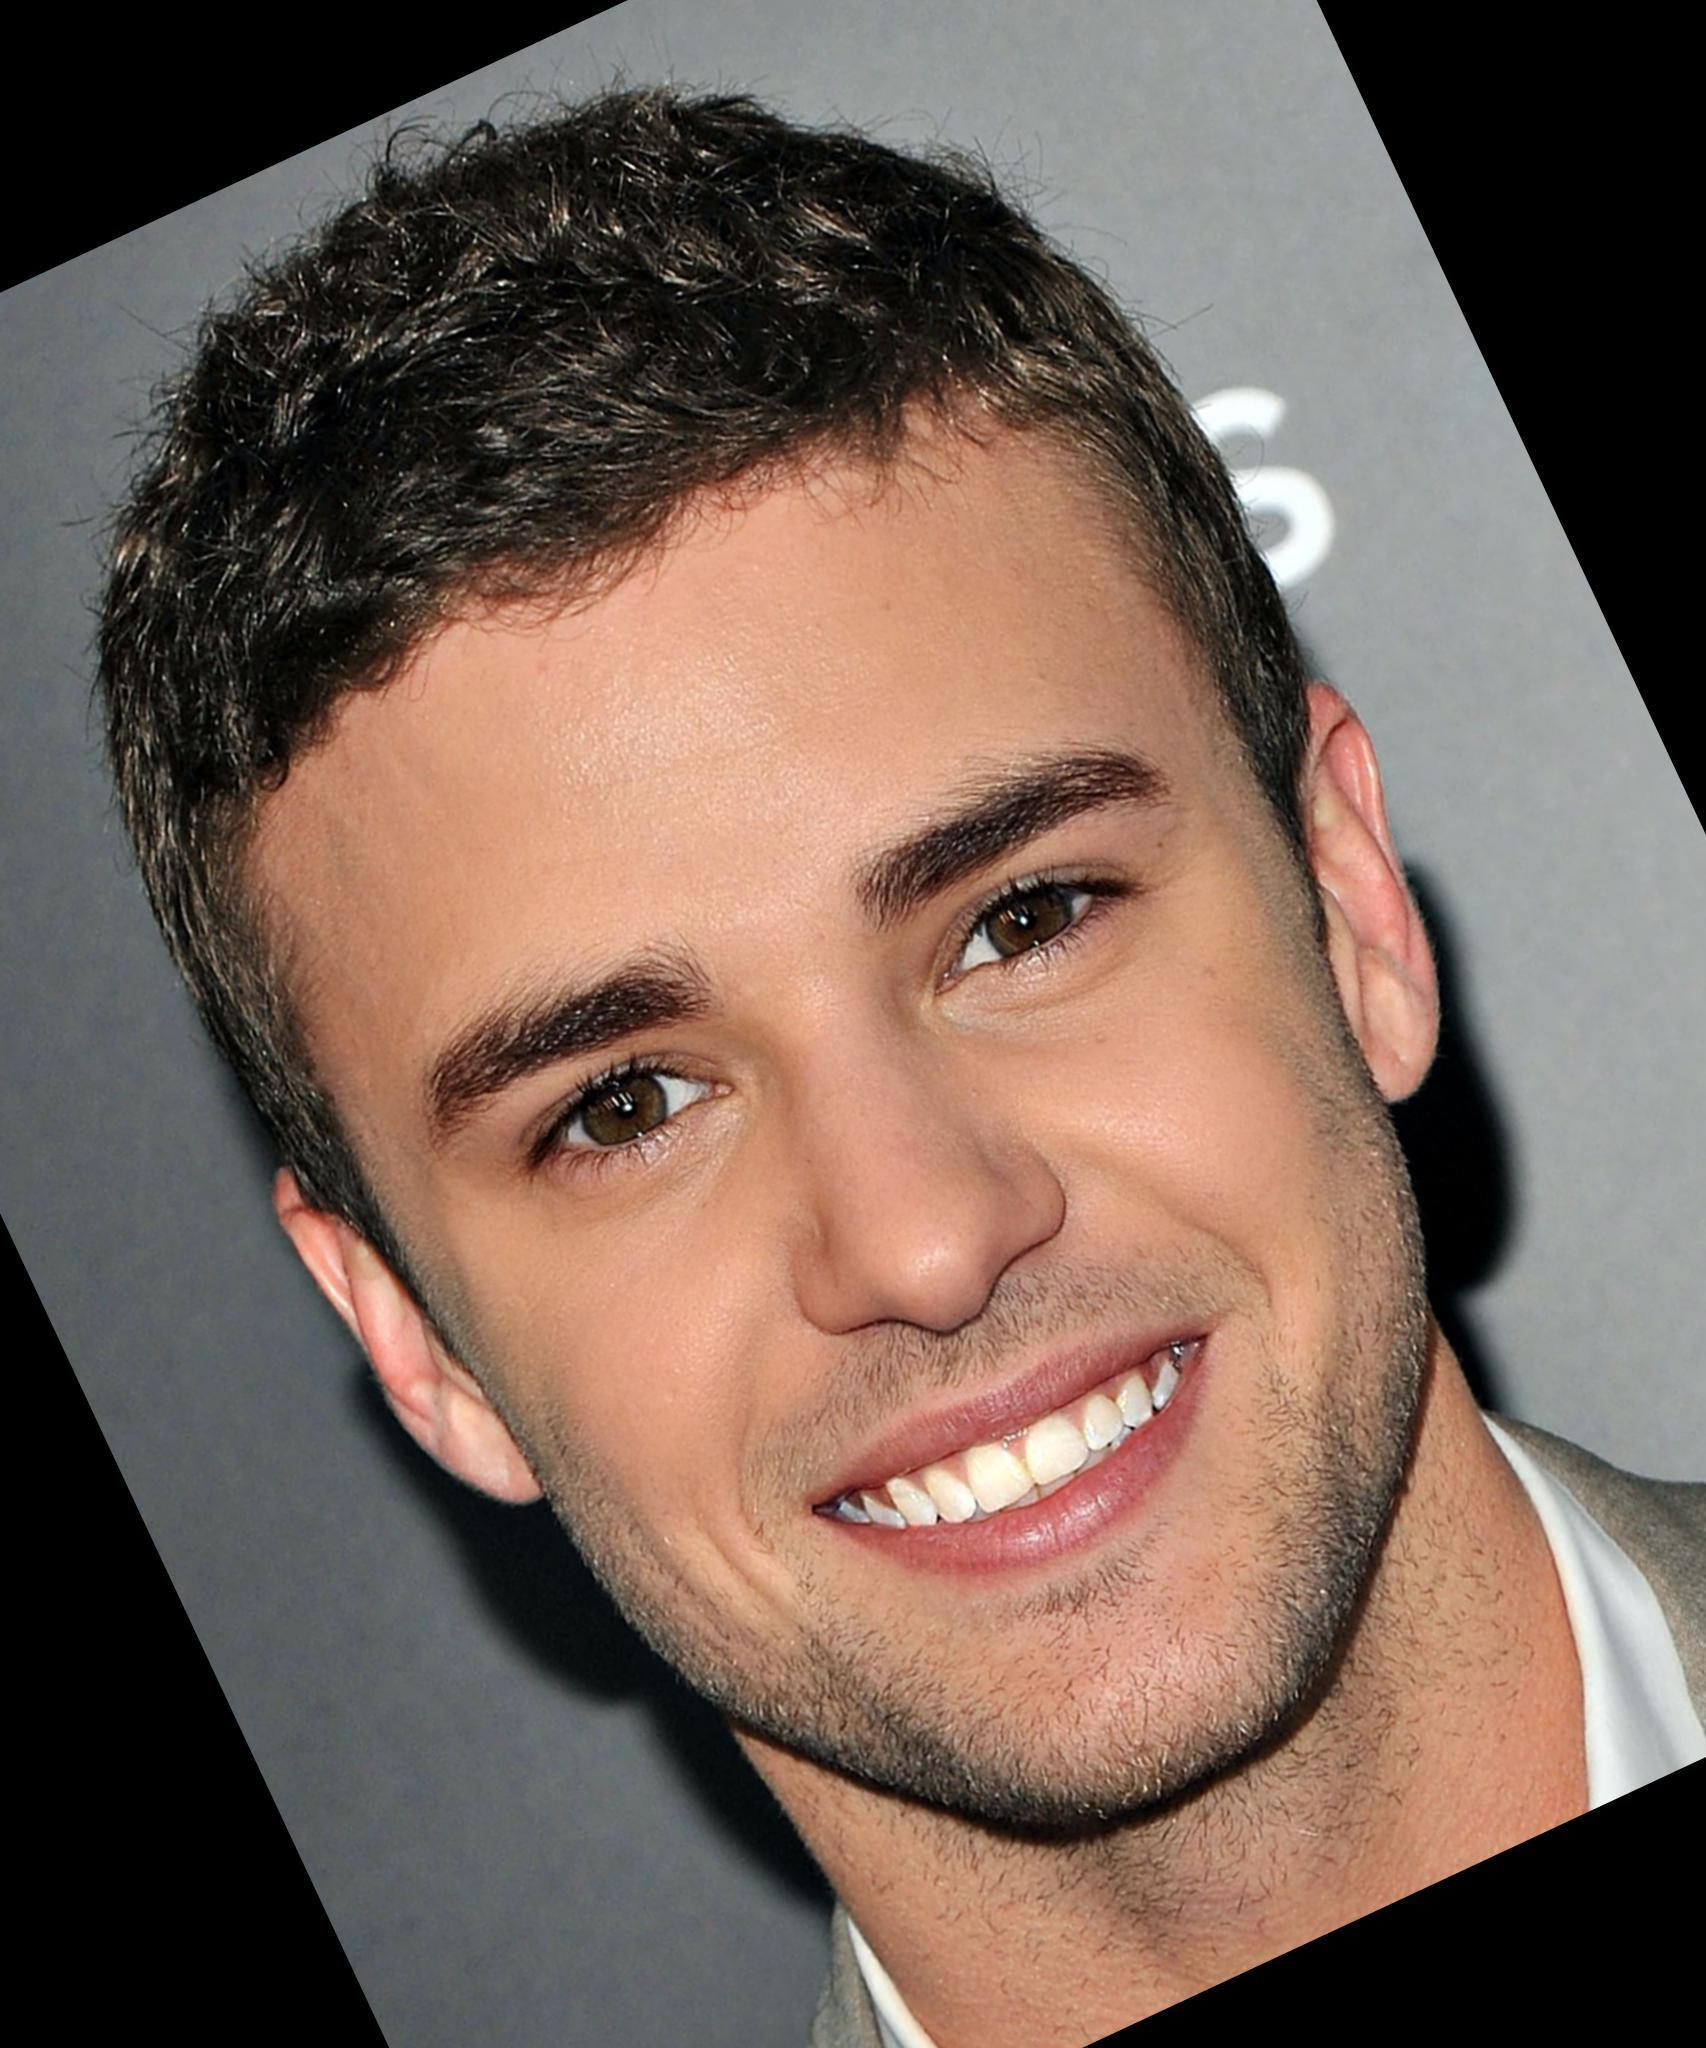Sober: (327, 636, 1378, 1635)
